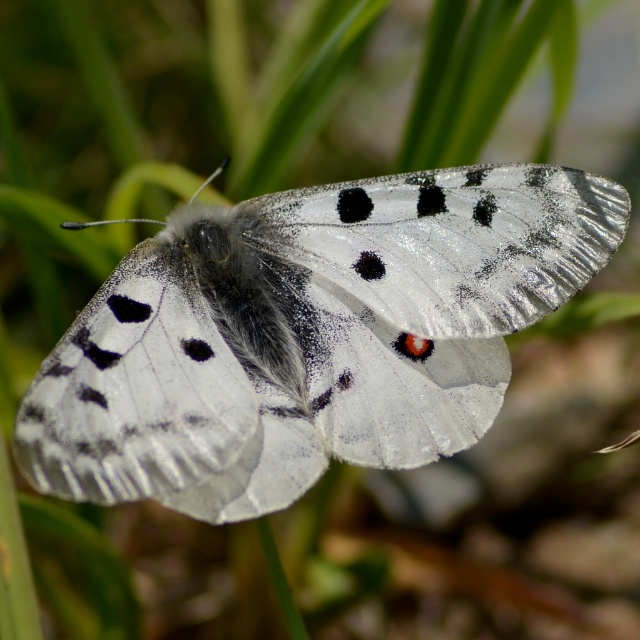Butterfly: (12, 157, 634, 524)
